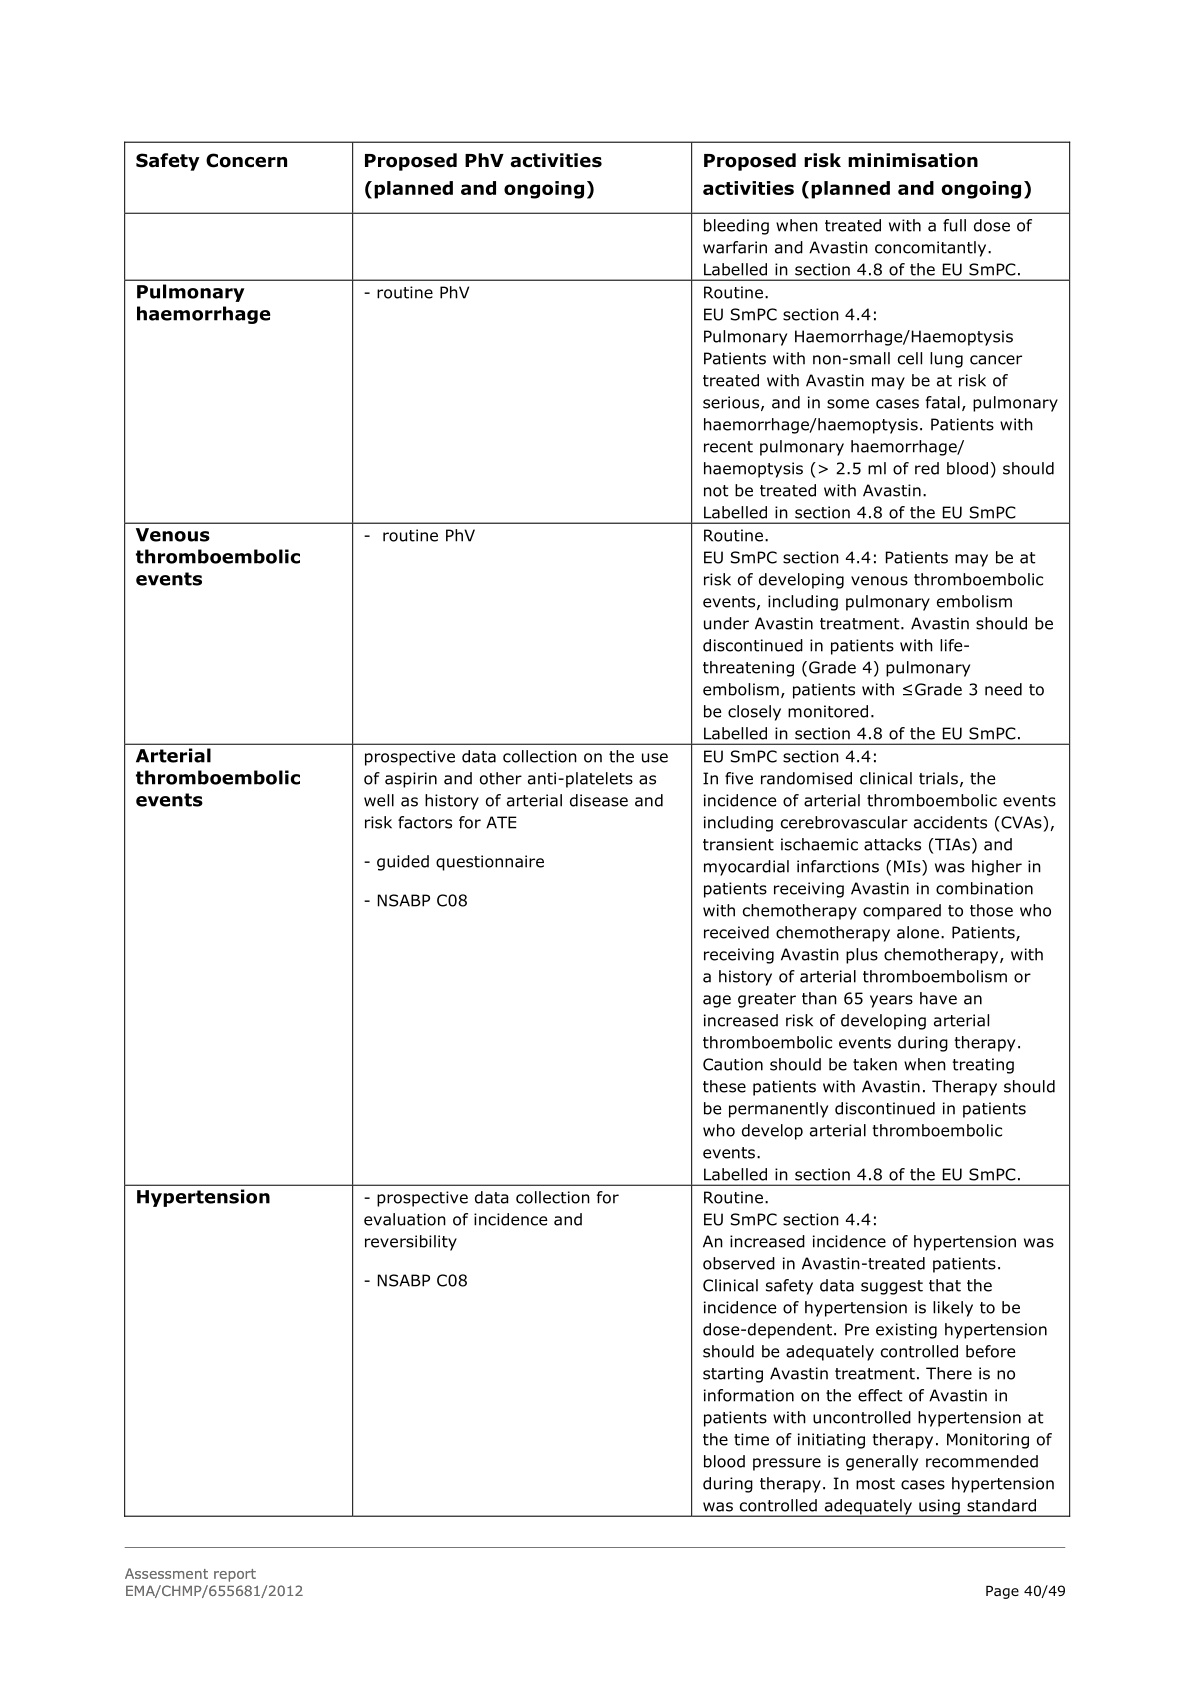full_lined: (122, 140, 1071, 1517)
